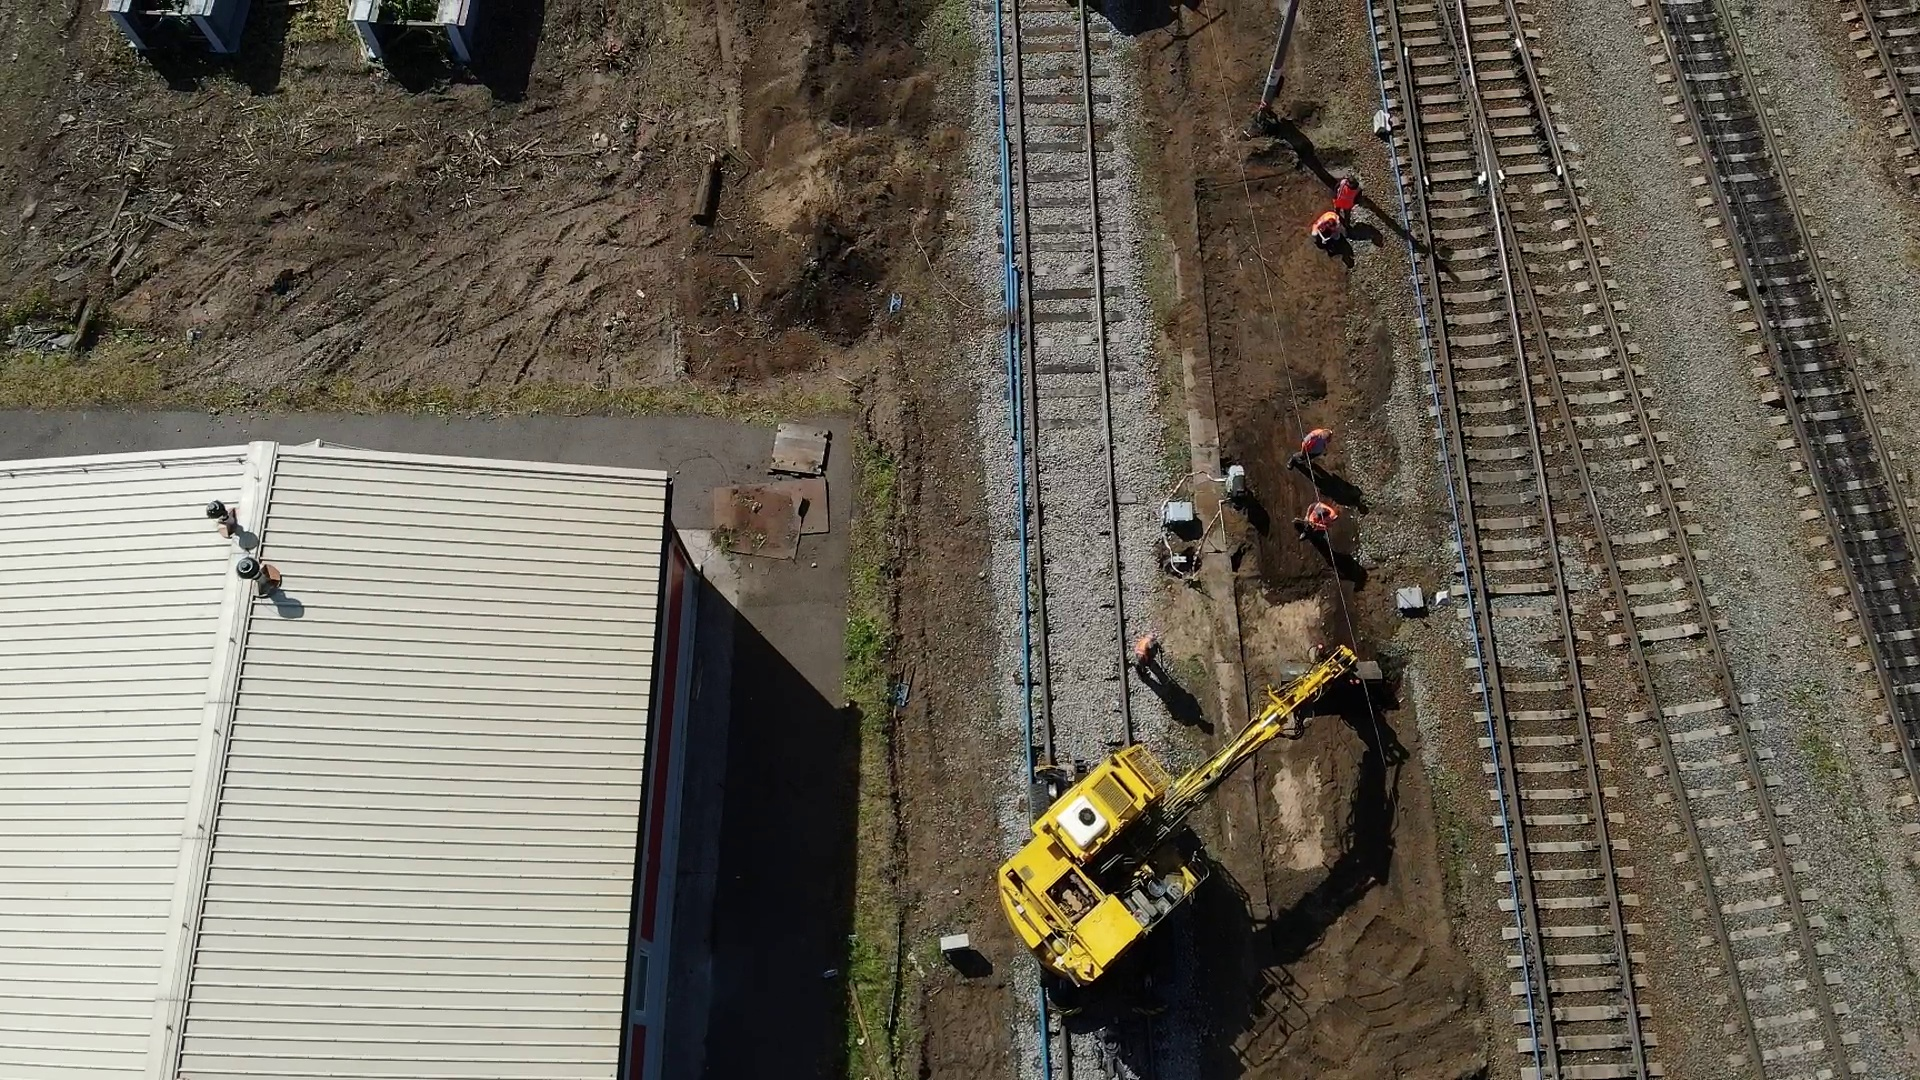kjtv: (1004, 680, 1296, 1019)
